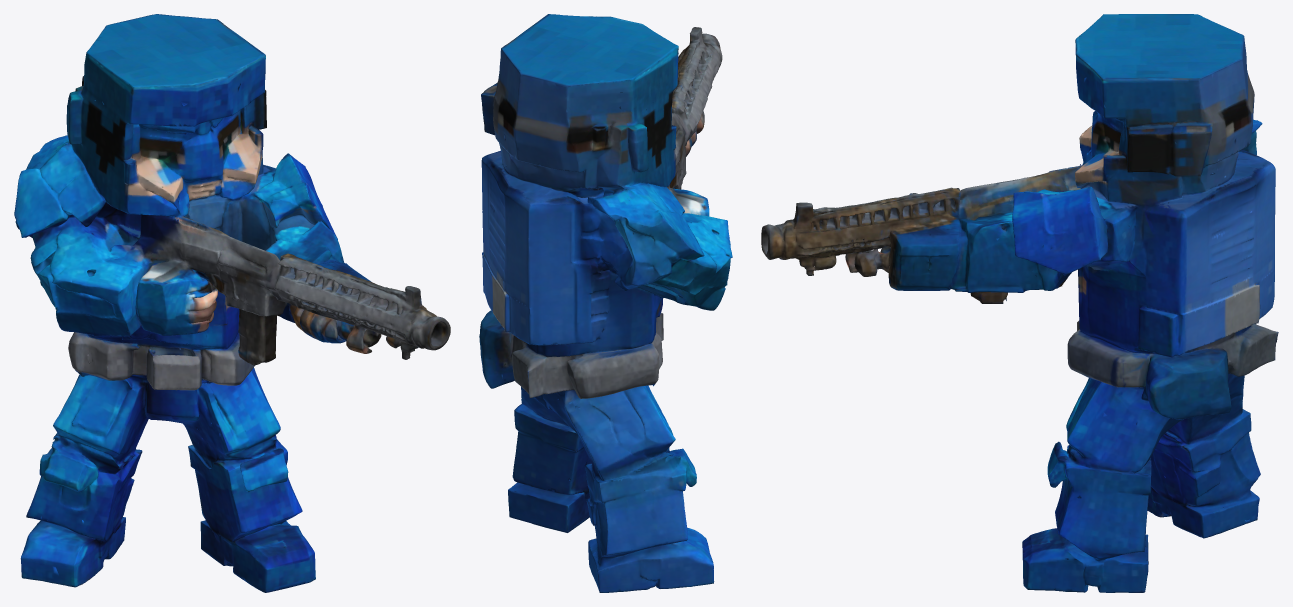
File: player4.glb
The picture shows the model from 3 angles, left to right: view 1: azimuth 30°, elevation 25°; view 2: azimuth 150°, elevation 25°; view 3: azimuth 270°, elevation 25°; orthographic projection. The views are drawn at different scales.
Bounding box in the file's own units: 1.08 × 2 × 1.86.
1 material, 1 textured.
